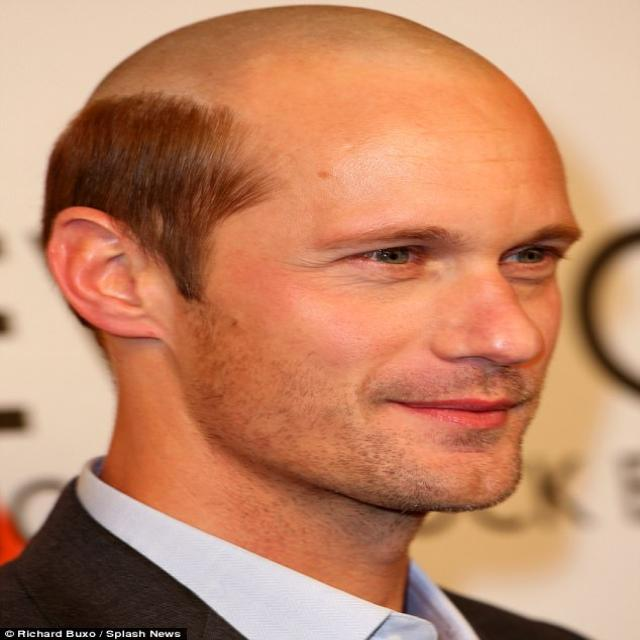no_helmet: (10, 0, 631, 246)
